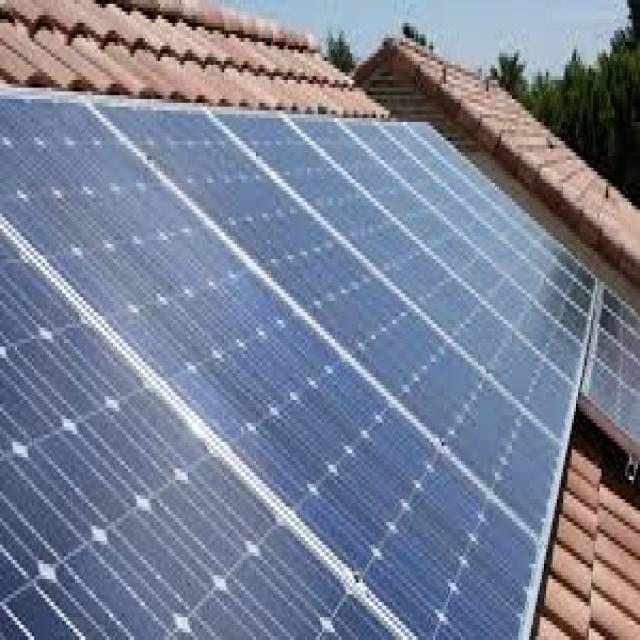clean-solar-panel: (1, 92, 640, 638)
